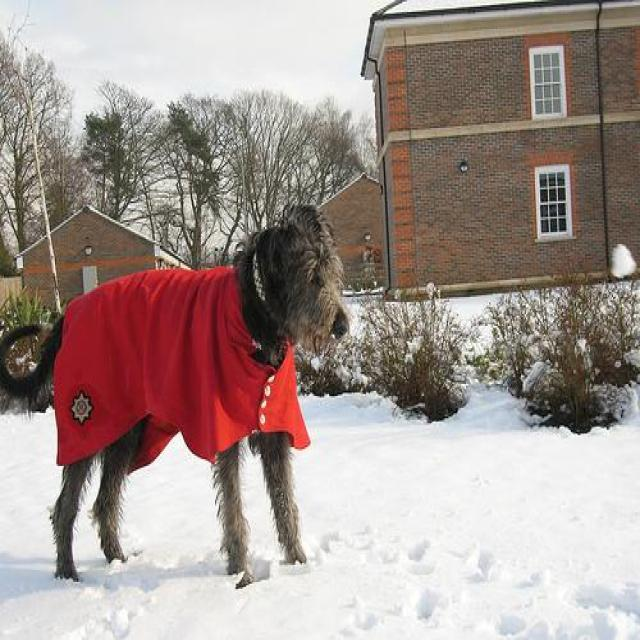irish_wolfhound: (1, 200, 352, 594)
